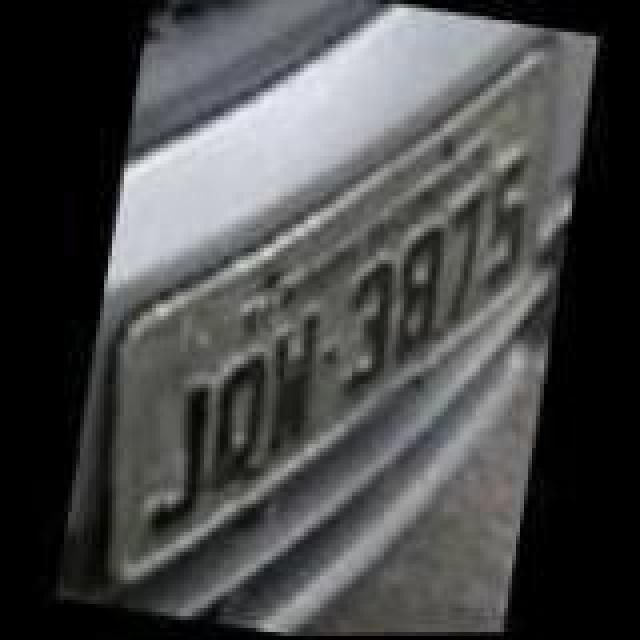3: (338, 248, 406, 400)
5: (468, 146, 536, 298)
7: (430, 186, 490, 330)
8: (384, 212, 456, 372)
J: (132, 376, 224, 548)
Q: (196, 344, 276, 508)
W: (248, 308, 328, 468)
